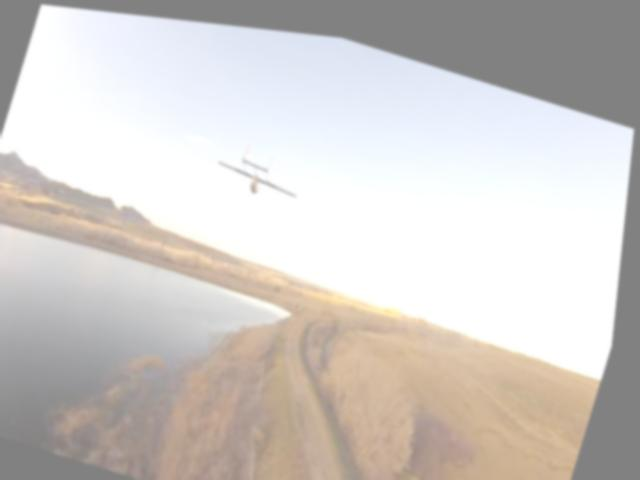uav: (213, 131, 314, 199)
